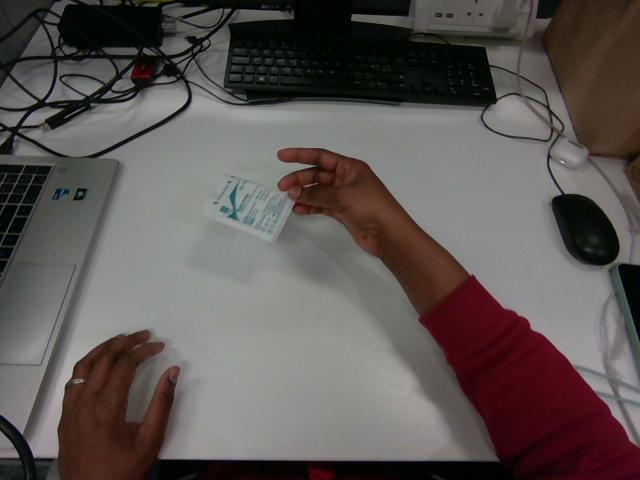gauze: (203, 175, 294, 242)
